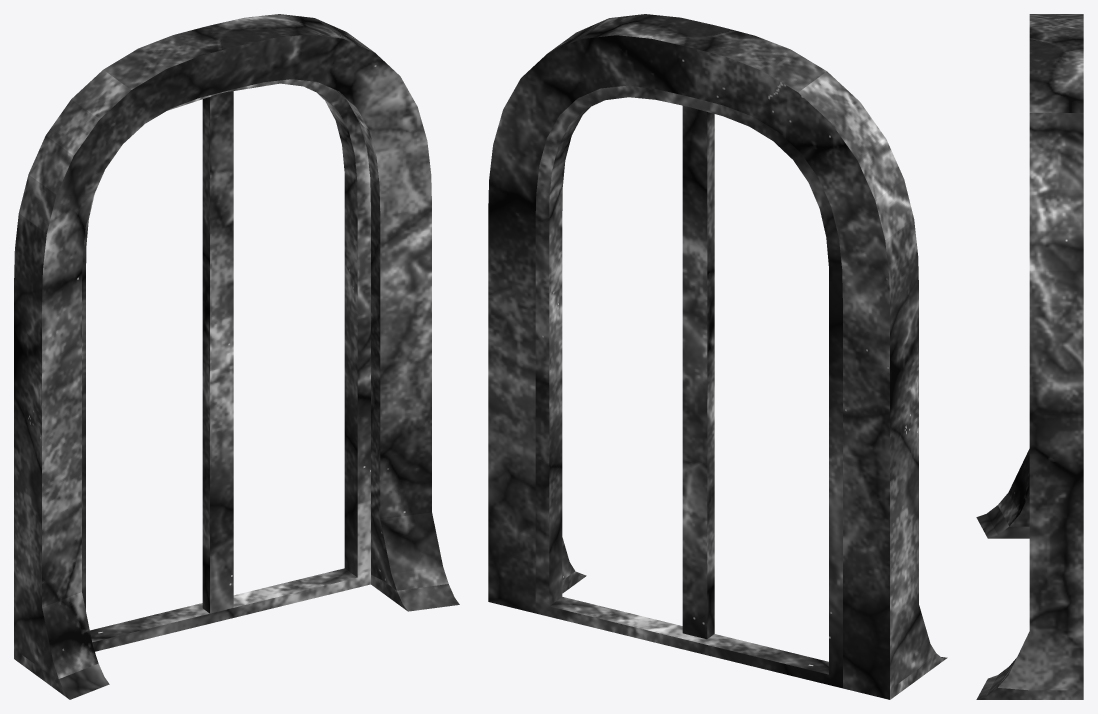
File: OpenDoor.fbx
3 renders of one model, left to right at view 1: azimuth 30°, elevation 25°; view 2: azimuth 150°, elevation 25°; view 3: azimuth 270°, elevation 25°, orthographic. The views are drawn at different scales.
Visible parts, largest first — view 1: Marco; view 2: Marco; view 3: Marco.
Boxes of the visible parts, x1,y1,x2,y2 form: Marco: (14,14,459,699); Marco: (488,14,947,699); Marco: (976,14,1083,699).
Size of the model in its own units: 4.04 by 5.8 by 1.
